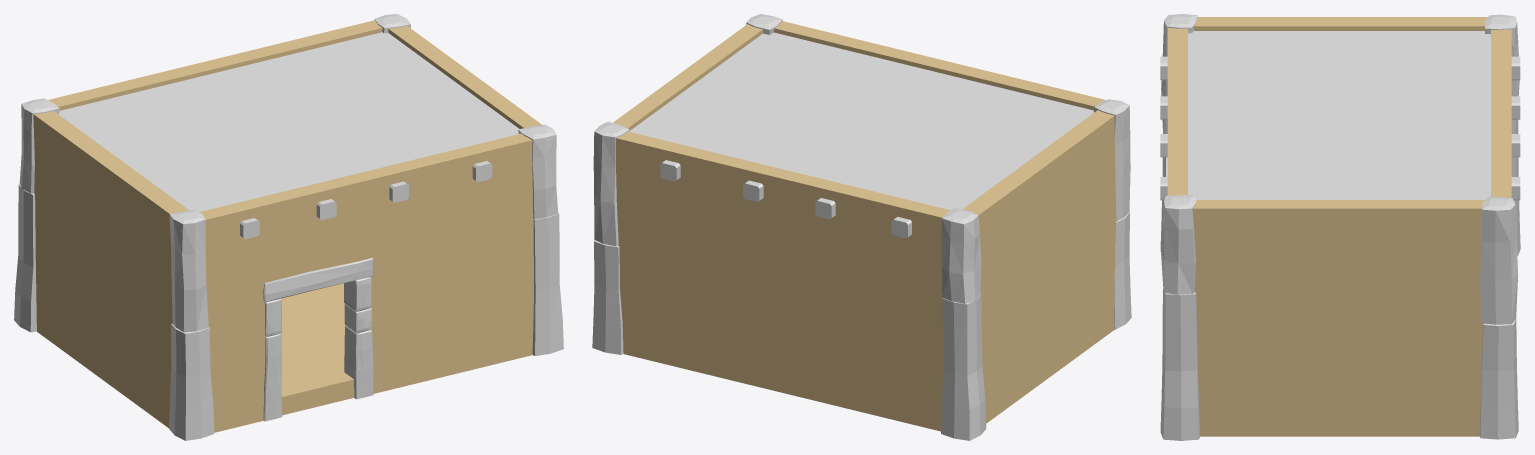
Rendered from hut.gltf.
3 views of the same model, side by side, from view 1: azimuth 30°, elevation 25°; view 2: azimuth 150°, elevation 25°; view 3: azimuth 270°, elevation 25° (orthographic). The views are drawn at different scales.
Visible parts, largest first — view 1: Zid, acoperis, podea, stalp1.2, stalp1.1, stalp2.2, stalp4.2, stalp2.1, prag1, prag6, stalp4.1, prag3 (+3 smaller); view 2: Zid, acoperis, stalp4.2, stalp4.1, stalp3.2, stalp3.1, stalp1.1, stalp1.2; view 3: Zid, acoperis, stalp2.2, stalp3.1, stalp3.2, stalp2.1, stalp4.1, stalp1.1, stalp4.2, grinda4, grinda3, grinda2 (+1 smaller).
Part boxes in pixels (x1=…): Zid: x1=33, y1=20, x2=541, y2=432; acoperis: x1=58, y1=32, x2=519, y2=211; podea: x1=281, y1=283, x2=354, y2=415; stalp1.2: x1=169, y1=323, x2=214, y2=440; stalp1.1: x1=169, y1=210, x2=208, y2=332; stalp2.2: x1=532, y1=213, x2=563, y2=355; stalp4.2: x1=14, y1=184, x2=36, y2=332; stalp2.1: x1=518, y1=124, x2=558, y2=219; prag1: x1=263, y1=258, x2=373, y2=302; prag6: x1=344, y1=325, x2=373, y2=399; stalp4.1: x1=19, y1=98, x2=59, y2=193; prag3: x1=263, y1=333, x2=282, y2=421; Zid: x1=613, y1=21, x2=1117, y2=431; acoperis: x1=629, y1=32, x2=1093, y2=209; stalp4.2: x1=941, y1=294, x2=986, y2=440; stalp4.1: x1=941, y1=207, x2=981, y2=303; stalp3.2: x1=592, y1=240, x2=623, y2=354; stalp3.1: x1=593, y1=121, x2=629, y2=246; stalp1.1: x1=1094, y1=99, x2=1130, y2=220; stalp1.2: x1=1113, y1=212, x2=1131, y2=329; Zid: x1=1167, y1=17, x2=1511, y2=436; acoperis: x1=1188, y1=31, x2=1490, y2=199; stalp2.2: x1=1160, y1=287, x2=1200, y2=440; stalp3.1: x1=1480, y1=197, x2=1518, y2=324; stalp3.2: x1=1479, y1=319, x2=1518, y2=439; stalp2.1: x1=1161, y1=194, x2=1196, y2=294; stalp4.1: x1=1485, y1=14, x2=1519, y2=96; stalp1.1: x1=1161, y1=14, x2=1197, y2=133; stalp4.2: x1=1511, y1=119, x2=1520, y2=256; grinda4: x1=1160, y1=56, x2=1520, y2=80; grinda3: x1=1160, y1=96, x2=1520, y2=119; grinda2: x1=1160, y1=134, x2=1520, y2=157.
Bounding box in the file's own units: 4.14 × 2.21 × 3.14.
